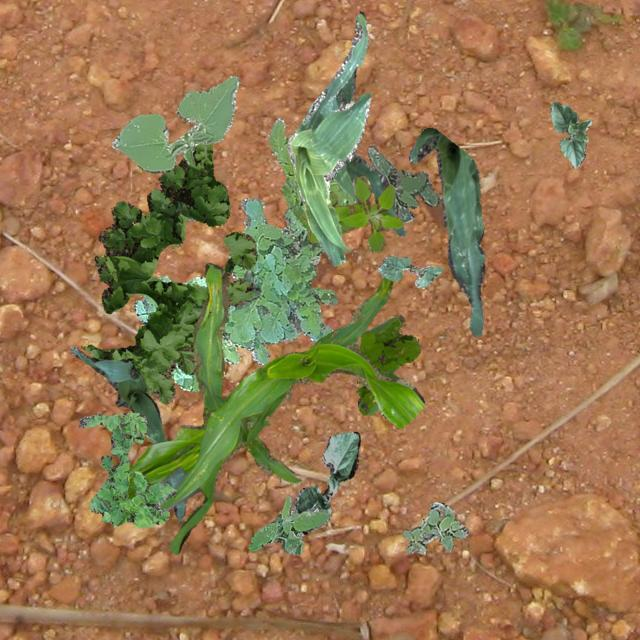crop: (125, 262, 424, 552), (286, 11, 370, 266), (69, 346, 185, 518), (408, 126, 483, 336), (110, 76, 238, 172), (331, 68, 404, 234), (294, 430, 359, 536), (550, 100, 590, 168), (377, 255, 442, 288)
weed: (80, 140, 256, 404), (132, 198, 336, 390), (78, 412, 175, 526), (268, 117, 356, 230), (302, 174, 402, 252), (356, 314, 418, 414), (366, 144, 439, 222), (248, 496, 328, 554), (402, 500, 466, 552), (234, 270, 260, 308), (186, 217, 193, 220)
